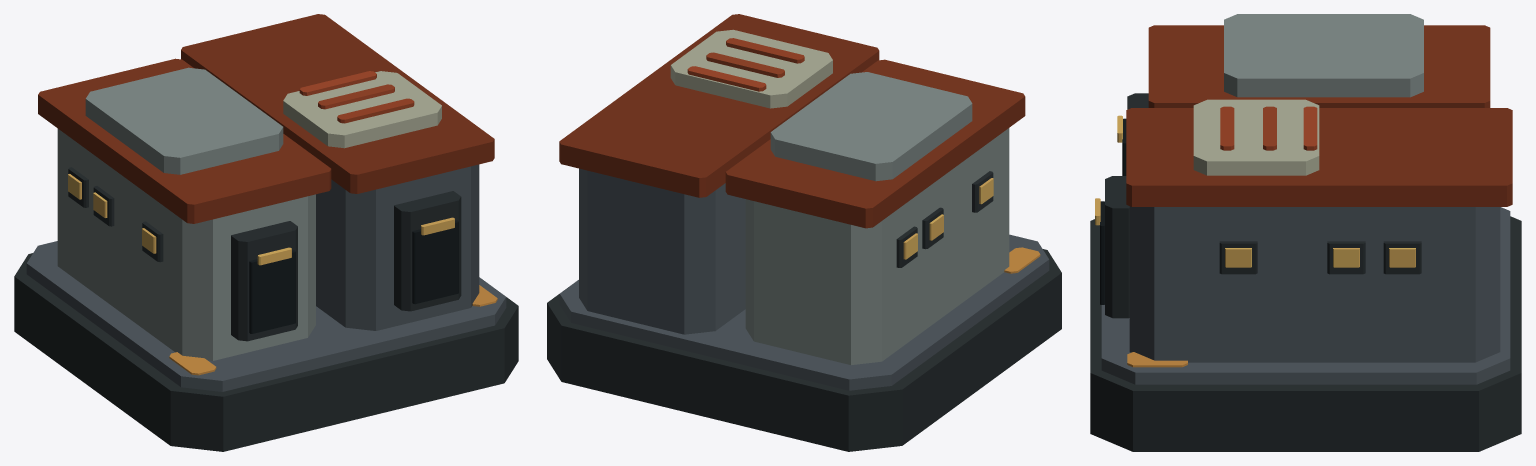
File: habitat.glb
3 renders of one model, left to right at view 1: azimuth 30°, elevation 25°; view 2: azimuth 150°, elevation 25°; view 3: azimuth 270°, elevation 25°, orthographic. The views are drawn at different scales.
Parts seen in each view (by area): view 1: habitat; view 2: habitat; view 3: habitat.
Part boxes in pixels (x1,y1,x2,y2): habitat: (14,14,518,451); habitat: (547,14,1061,451); habitat: (1090,14,1521,451).
Size of the model in its own units: 1.98 by 1.34 by 1.92.
